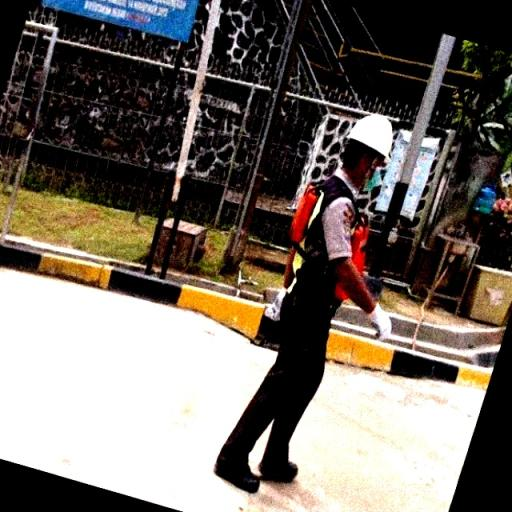Person: (211, 74, 402, 502)
boots: (208, 426, 268, 500), (259, 426, 305, 488)
gloves: (360, 298, 396, 347), (256, 281, 293, 327)
helmet: (336, 104, 402, 168)
vest: (294, 168, 368, 322)
